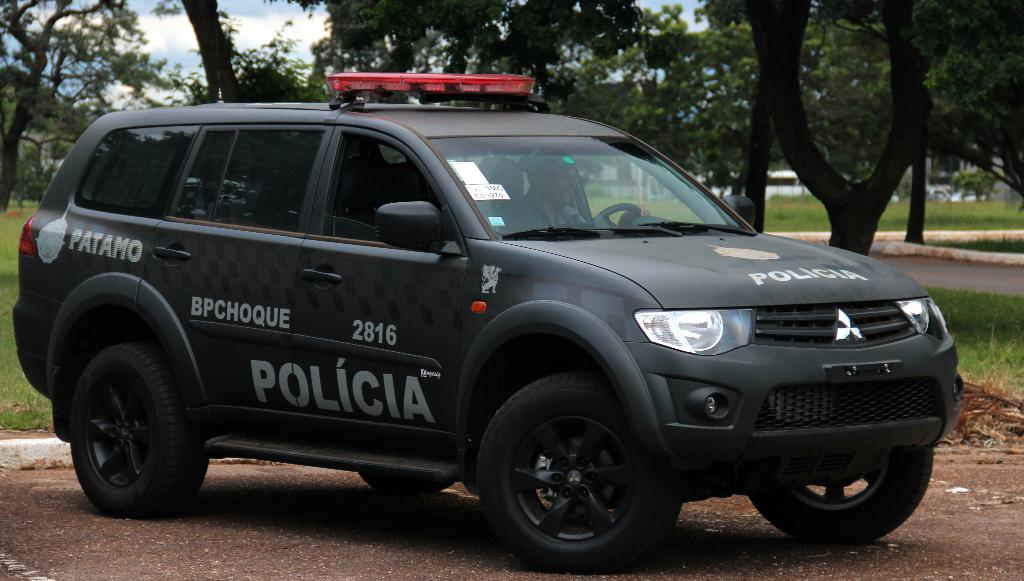Car: (13, 21, 965, 576), (947, 188, 984, 199), (925, 186, 951, 197)
